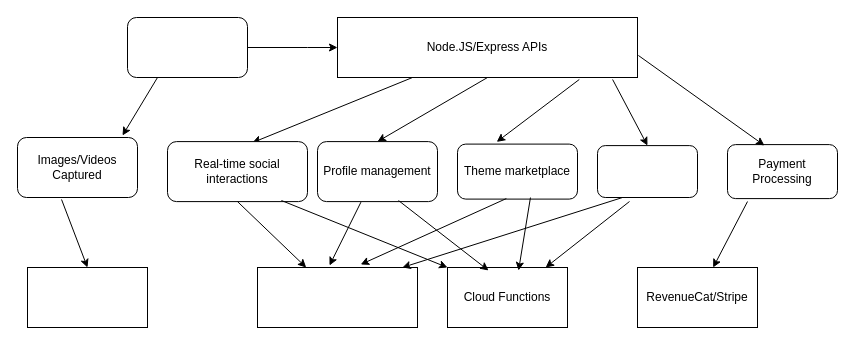
This 855x345 diagram has some shape labels left out. Each missing label, with the box of its shape:
Firebase Cloud Firestore: (256, 266, 418, 328)
Firebase Storage: (26, 266, 148, 328)
Group (Cliqs): (596, 145, 698, 198)
NuCliq Platform: (126, 16, 248, 78)
